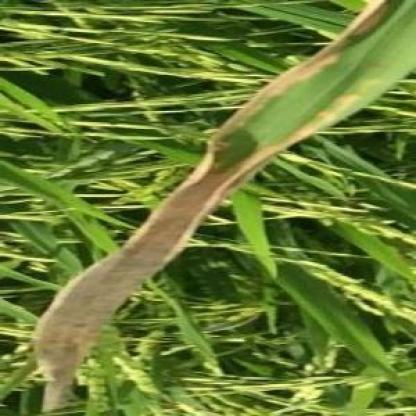Blight: (34, 1, 416, 392)
